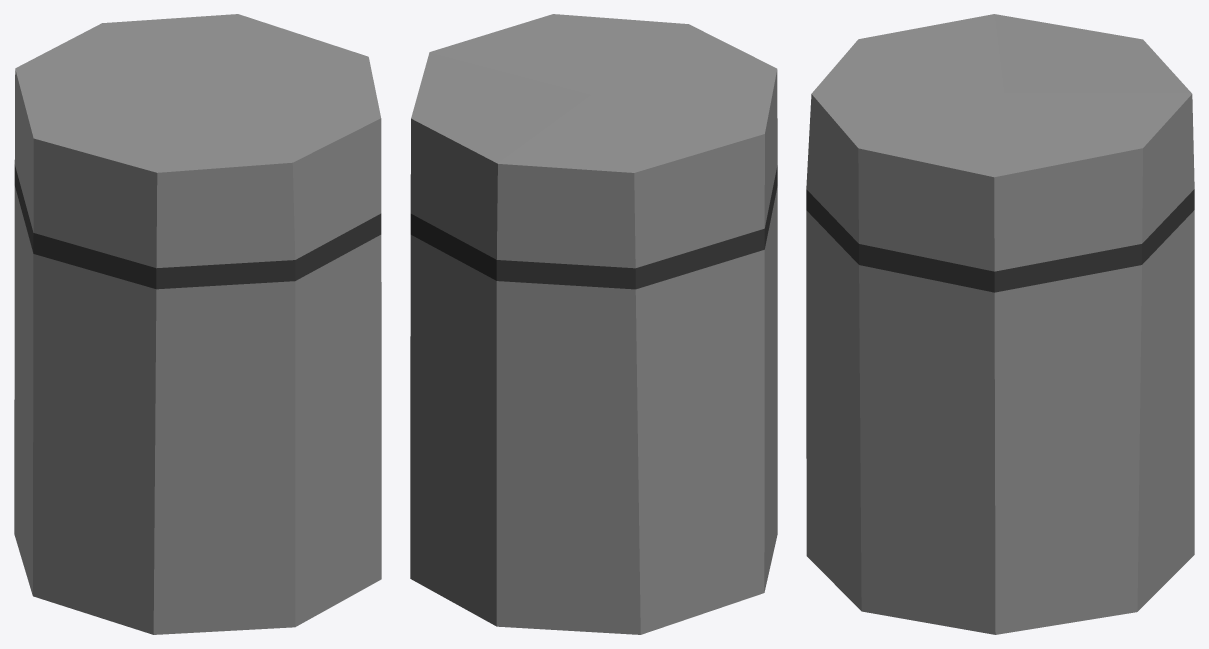
File: Trashcan_3.fbx
The picture shows the model from 3 angles, left to right: view 1: azimuth 30°, elevation 25°; view 2: azimuth 150°, elevation 25°; view 3: azimuth 270°, elevation 25°; orthographic projection.
Visible parts, largest first — view 1: Trashcan_3; view 2: Trashcan_3; view 3: Trashcan_3.
Boxes of the visible parts, box(x1,y1,x2,y2) form: Trashcan_3: box(14, 14, 381, 634); Trashcan_3: box(410, 14, 777, 634); Trashcan_3: box(806, 14, 1194, 634).
Bounding box in the file's own units: 37.72 × 37.88 × 49.73.
